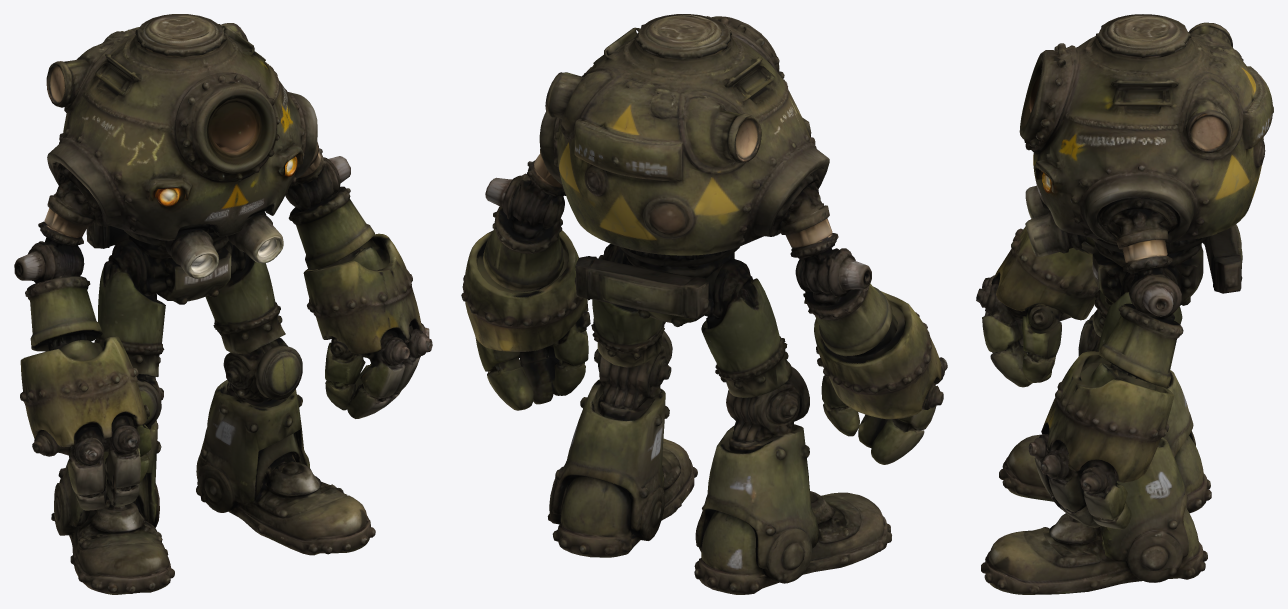
Rendered from pixellabs-glb-3350.high.glb.
3 renders of one model, left to right at view 1: azimuth 30°, elevation 25°; view 2: azimuth 150°, elevation 25°; view 3: azimuth 270°, elevation 25°, orthographic. The views are drawn at different scales.
Parts seen in each view (by area): view 1: material; view 2: material; view 3: material.
Part boxes in pixels (left/top/right/bottom): material: left=14, top=14, right=432, bottom=594; material: left=461, top=14, right=947, bottom=594; material: left=976, top=14, right=1273, bottom=594.
Size of the model in its own units: 0.8672 by 0.9749 by 0.5225.
1 material, 1 textured.
